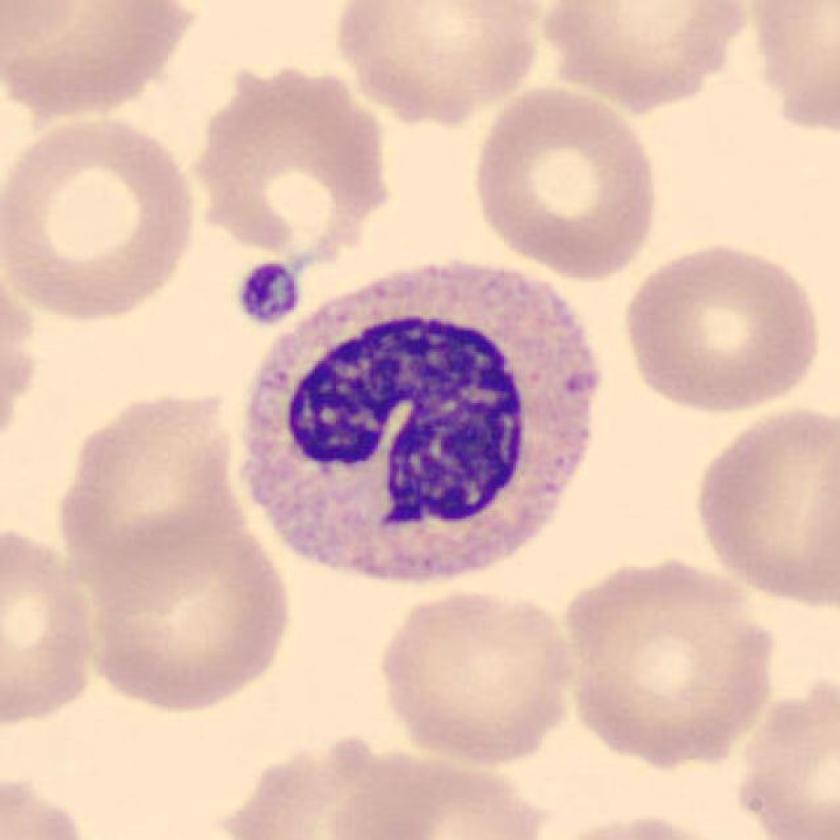neutrophil: (242, 261, 597, 584)
